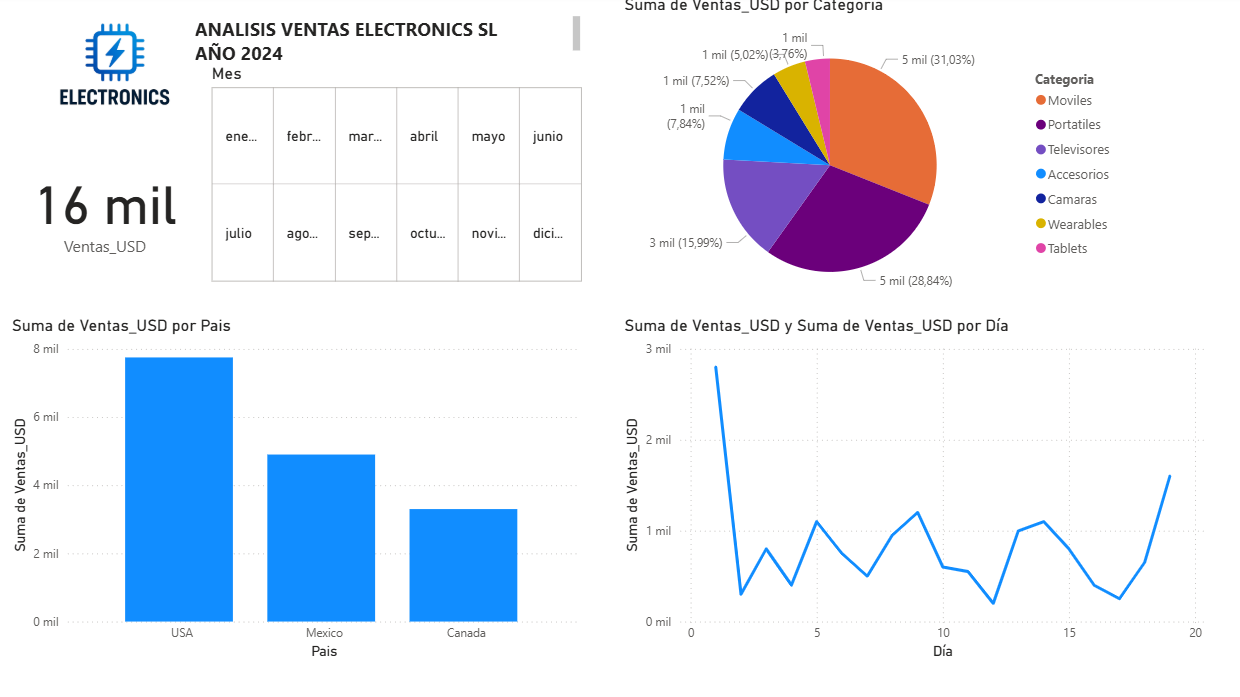

Layout of this report page (visuals, bound fields, positions):
{"tool":"powerbi","page":{"name":"Página 1","canvas":[1280,720],"ordinal":0},"visuals":[{"type":"card","fields":{"Values":["Sum(VENTAS_ELECTRONICA.Ventas_USD)"]},"box":[12.3,147.9,200,141.1],"z":0},{"type":"columnChart","fields":{"Category":["VENTAS_ELECTRONICA.Pais"],"Y":["Sum(VENTAS_ELECTRONICA.Ventas_USD)"]},"box":[12.3,328.7,591.7,356.1],"z":1},{"type":"pieChart","fields":{"Category":["VENTAS_ELECTRONICA.Categoria"],"Y":["Sum(VENTAS_ELECTRONICA.Ventas_USD)"]},"box":[639.7,0,516.4,328.7],"z":2},{"type":"lineChart","fields":{"Category":["VENTAS_ELECTRONICA.Fecha.Variación.Jerarquía de fechas.Año","VENTAS_ELECTRONICA.Fecha.Variación.Jerarquía de fechas.Trimestre","VENTAS_ELECTRONICA.Fecha.Variación.Jerarquía de fechas.Mes","VENTAS_ELECTRONICA.Fecha.Variación.Jerarquía de fechas.Día"],"Y":["Sum(VENTAS_ELECTRONICA.Ventas_USD)","Sum(VENTAS_ELECTRONICA.Ventas_USD)"]},"box":[639.7,328.7,604.1,356.1],"z":3},{"type":"image","box":[47.1,0,152.7,149.5],"z":4},{"type":"textbox","box":[199.9,16.2,404.6,58.5],"z":5},{"type":"advancedSlicerVisual","fields":{"Values":["VENTAS_ELECTRONICA.Fecha.Variación.Jerarquía de fechas.Mes"]},"box":[221.9,70,383.5,224.6],"z":6}]}

Visuals, with their boxes in screenshot pixels (x1, y1, x2, y2), scaled from the page's 1280x720 canvas onto the 1240x697 screenshot:
card - Sum(VENTAS_ELECTRONICA.Ventas_USD): {"left": 12, "top": 143, "right": 206, "bottom": 280}
columnChart - VENTAS_ELECTRONICA.Pais x Sum(VENTAS_ELECTRONICA.Ventas_USD): {"left": 12, "top": 318, "right": 585, "bottom": 663}
pieChart - VENTAS_ELECTRONICA.Categoria x Sum(VENTAS_ELECTRONICA.Ventas_USD): {"left": 620, "top": 0, "right": 1120, "bottom": 318}
lineChart - VENTAS_ELECTRONICA.Fecha.Variación.Jerarquía de fechas.Año x VENTAS_ELECTRONICA.Fecha.Variación.Jerarquía de fechas.Trimestre: {"left": 620, "top": 318, "right": 1205, "bottom": 663}
image: {"left": 46, "top": 0, "right": 194, "bottom": 145}
textbox: {"left": 194, "top": 16, "right": 586, "bottom": 72}
advancedSlicerVisual - VENTAS_ELECTRONICA.Fecha.Variación.Jerarquía de fechas.Mes: {"left": 215, "top": 68, "right": 586, "bottom": 285}
